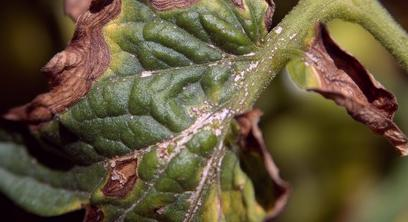Tomato Early blight leaf: (45, 0, 368, 222)
